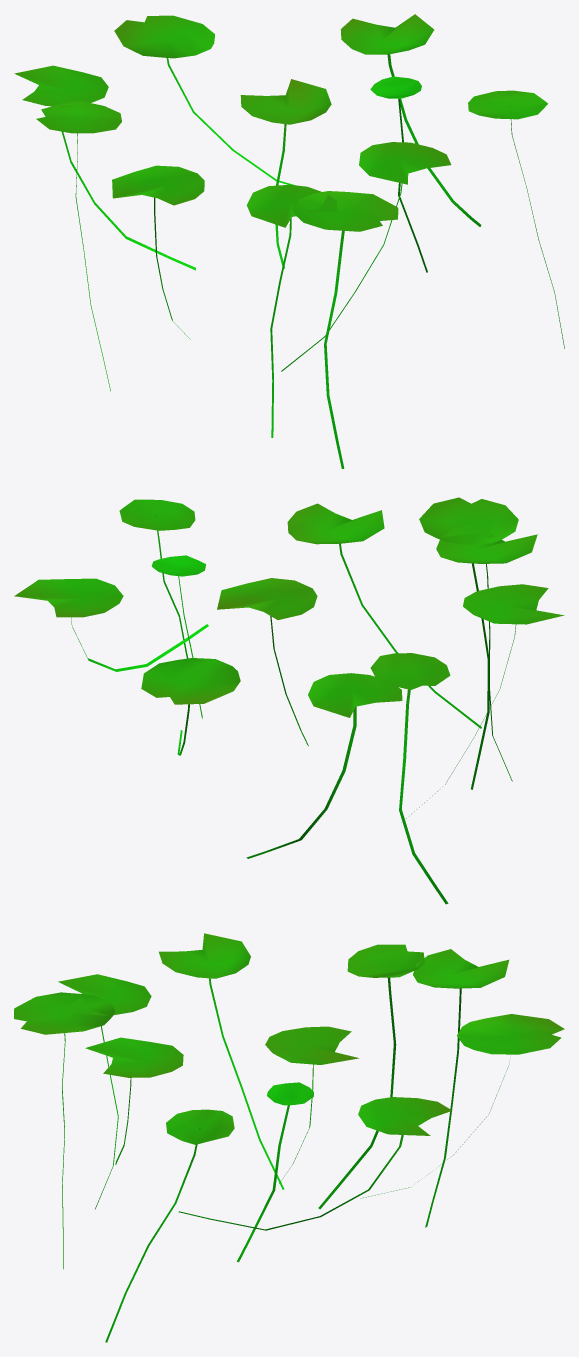
File: Var2_LOD2.fbx
3 views of the same model, one above another, from view 1: azimuth 30°, elevation 25°; view 2: azimuth 150°, elevation 25°; view 3: azimuth 270°, elevation 25° (orthographic). The views are drawn at different scales.
Visible parts, largest first — view 1: _9dbd_Var2_LOD2; view 2: _9dbd_Var2_LOD2; view 3: _9dbd_Var2_LOD2.
Part boxes in pixels (x1,y1,x2,y2): _9dbd_Var2_LOD2: (14,14,564,468); _9dbd_Var2_LOD2: (14,497,564,904); _9dbd_Var2_LOD2: (14,933,564,1342).
Bounding box in the file's own units: 120 × 69.62 × 134.
